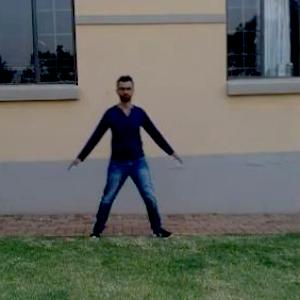land: (57, 72, 188, 244)
